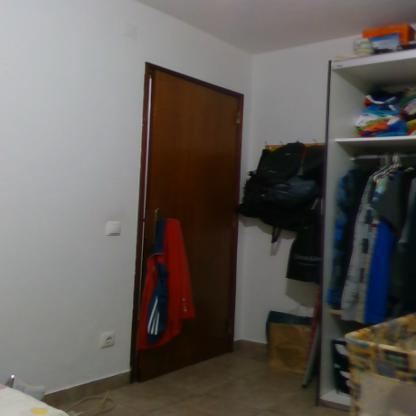door: (145, 69, 228, 379)
hinged: (227, 318, 234, 336), (230, 212, 236, 230), (236, 110, 242, 126)
